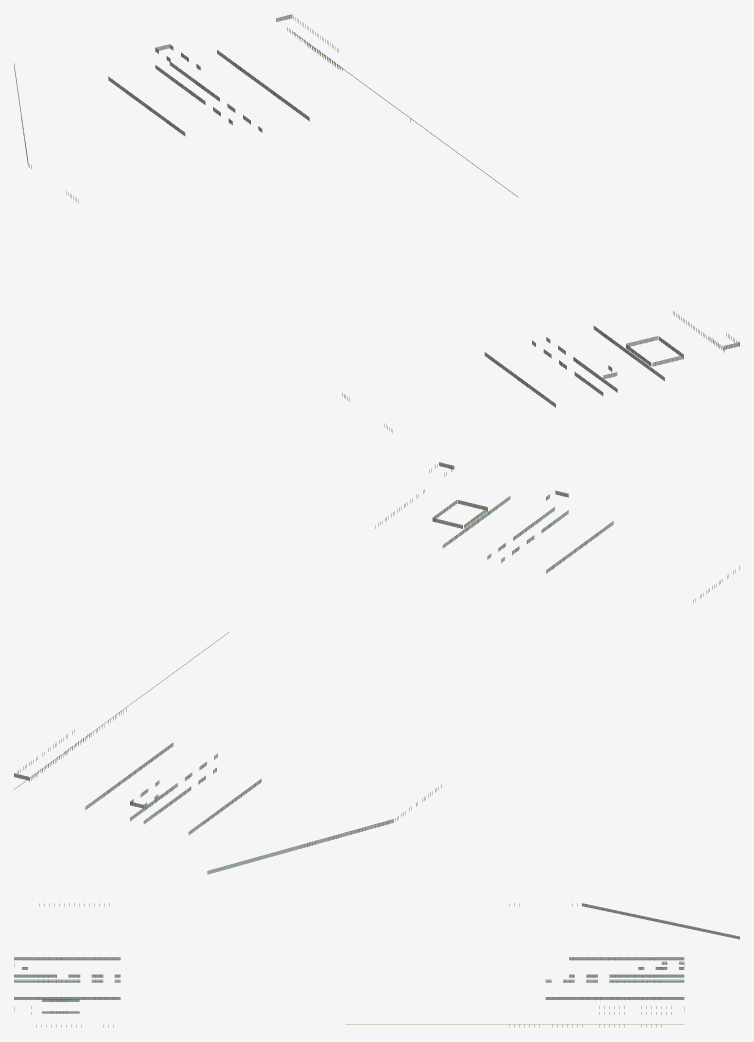
File: TIDAL_AQUATIC_D14_double_frontage_r001.glb
3 views of the same model, one above another, from view 1: azimuth 30°, elevation 25°; view 2: azimuth 150°, elevation 25°; view 3: azimuth 270°, elevation 25° (orthographic). The views are drawn at different scales.
Parts seen in each view (by area): view 1: TG_Batch_157, TG_Batch_148, TG_Batch_154, TG_Batch_146; view 2: TG_Batch_148, TG_Batch_157, TG_Batch_146, TG_Batch_154; view 3: TG_Batch_148, TG_Batch_157, TG_Batch_146, TG_Batch_154, TG_Batch_147.
Part boxes in pixels (x1=…): TG_Batch_157: x1=484, y1=326, x2=683, y2=407; TG_Batch_148: x1=14, y1=50, x2=309, y2=160; TG_Batch_154: x1=342, y1=311, x2=724, y2=433; TG_Batch_146: x1=14, y1=43, x2=338, y2=163; TG_Batch_148: x1=85, y1=743, x2=393, y2=874; TG_Batch_157: x1=433, y1=496, x2=613, y2=573; TG_Batch_146: x1=29, y1=743, x2=393, y2=871; TG_Batch_154: x1=375, y1=489, x2=739, y2=603; TG_Batch_148: x1=545, y1=903, x2=739, y2=999; TG_Batch_157: x1=14, y1=957, x2=120, y2=1013; TG_Batch_146: x1=546, y1=903, x2=739, y2=1027; TG_Batch_154: x1=14, y1=903, x2=120, y2=1027; TG_Batch_147: x1=346, y1=903, x2=683, y2=1027.
Size of the model in its own units: 91.72 by 5.64 by 232.
Materials: 2 (1 with a texture image).
